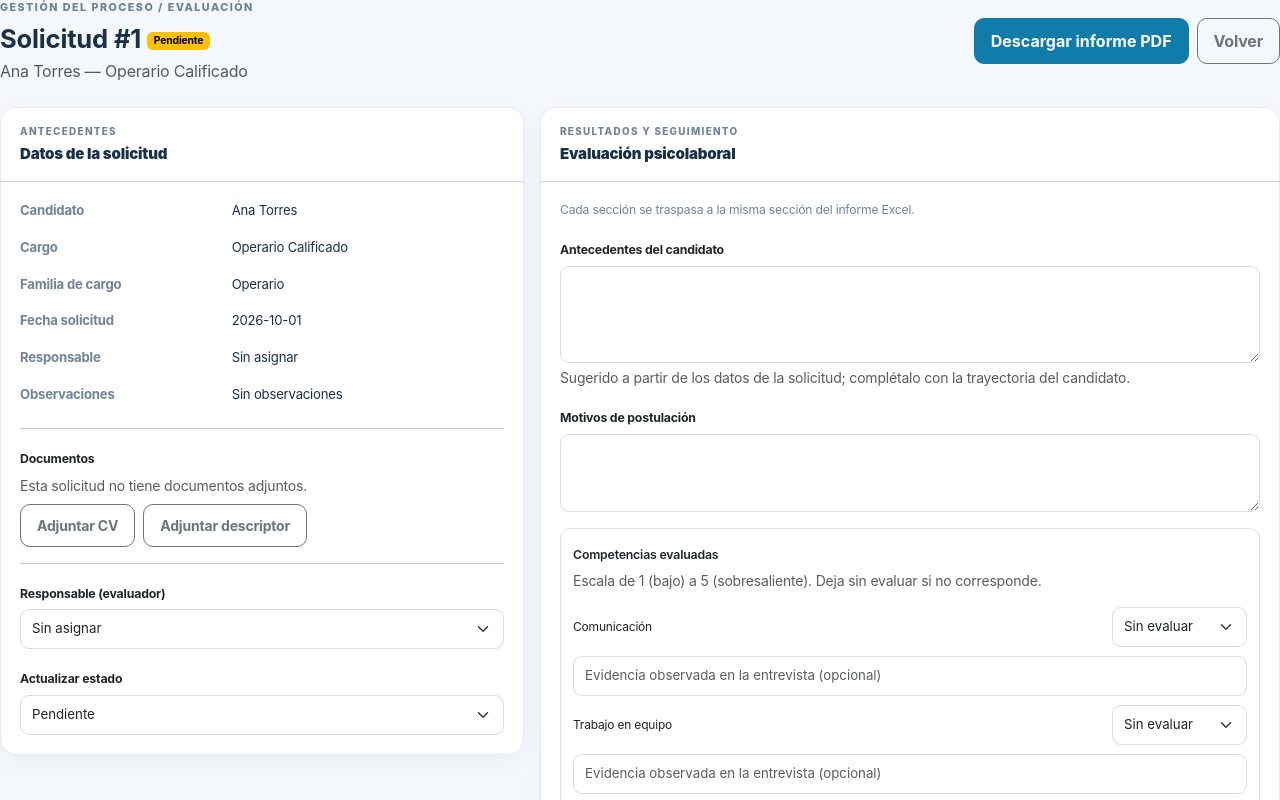
Test: SolicitudDetallePage › actualiza el estado de la solicitud
The width and height of the screenshot is (1280, 800).
Expected: the heading "Solicitud #1 Pendiente" is shown, [0,23,210,54]
Select "Finalizada" in the dropdown labelled "Actualizar estado" at (262, 715), box [20,695,504,735]
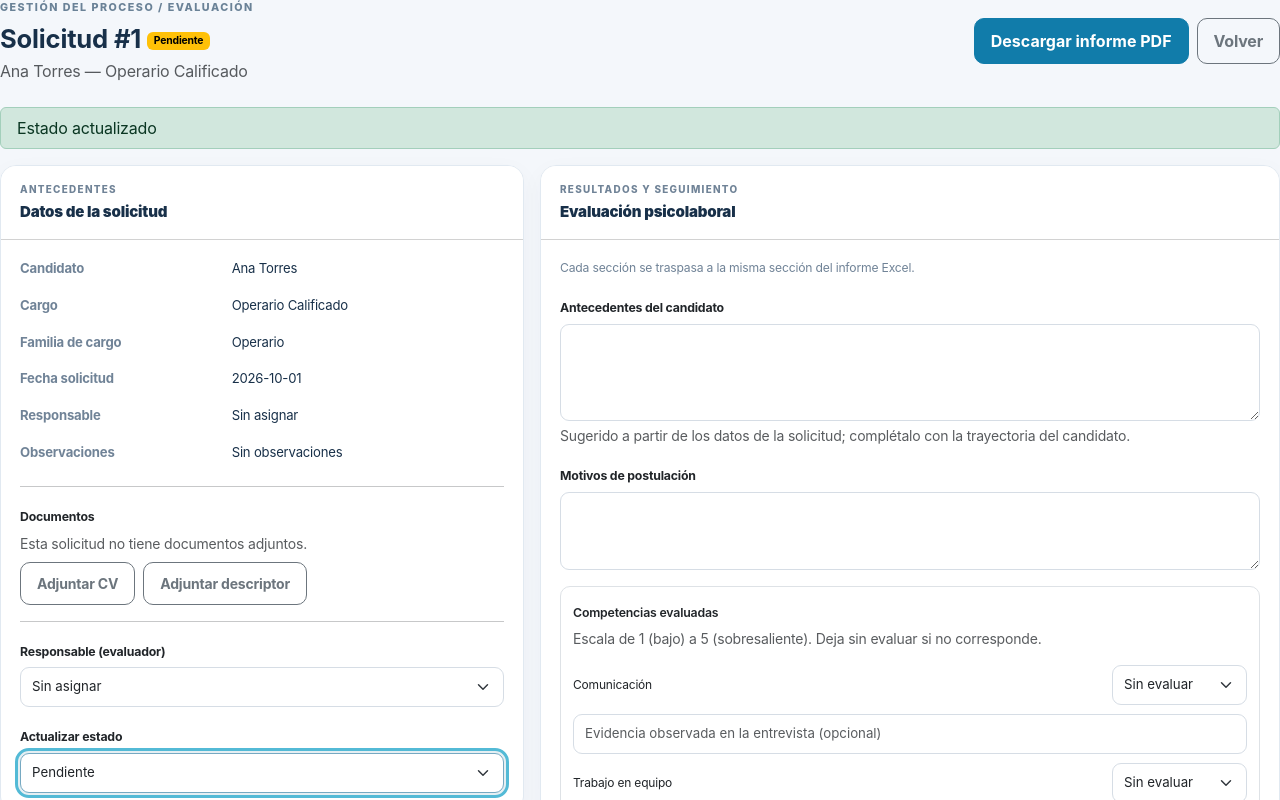
Expected: the text "Estado actualizado" is shown, [0,107,1279,149]
